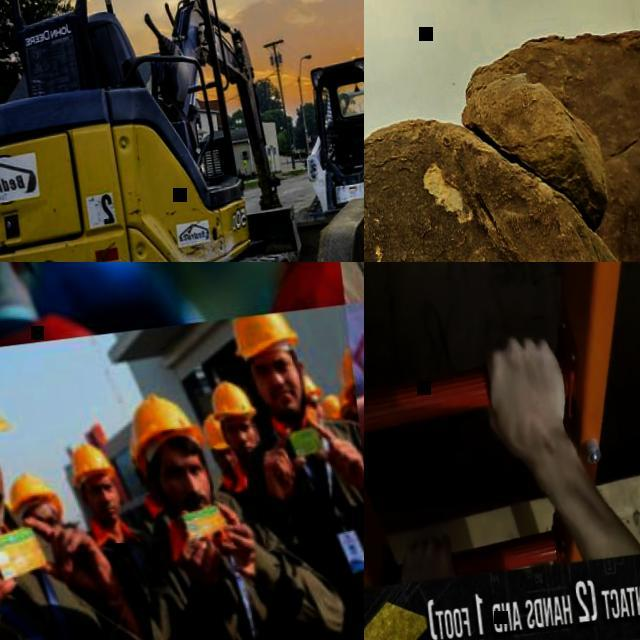helmet: (124, 387, 203, 458), (224, 308, 300, 360), (4, 472, 66, 516), (209, 377, 263, 420), (67, 440, 120, 482), (200, 416, 231, 454), (337, 348, 358, 392), (318, 392, 348, 419), (305, 373, 320, 402)
